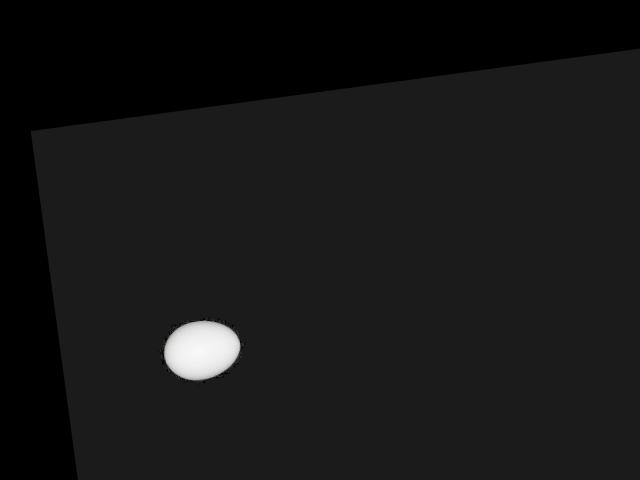egg: (160, 315, 243, 383)
